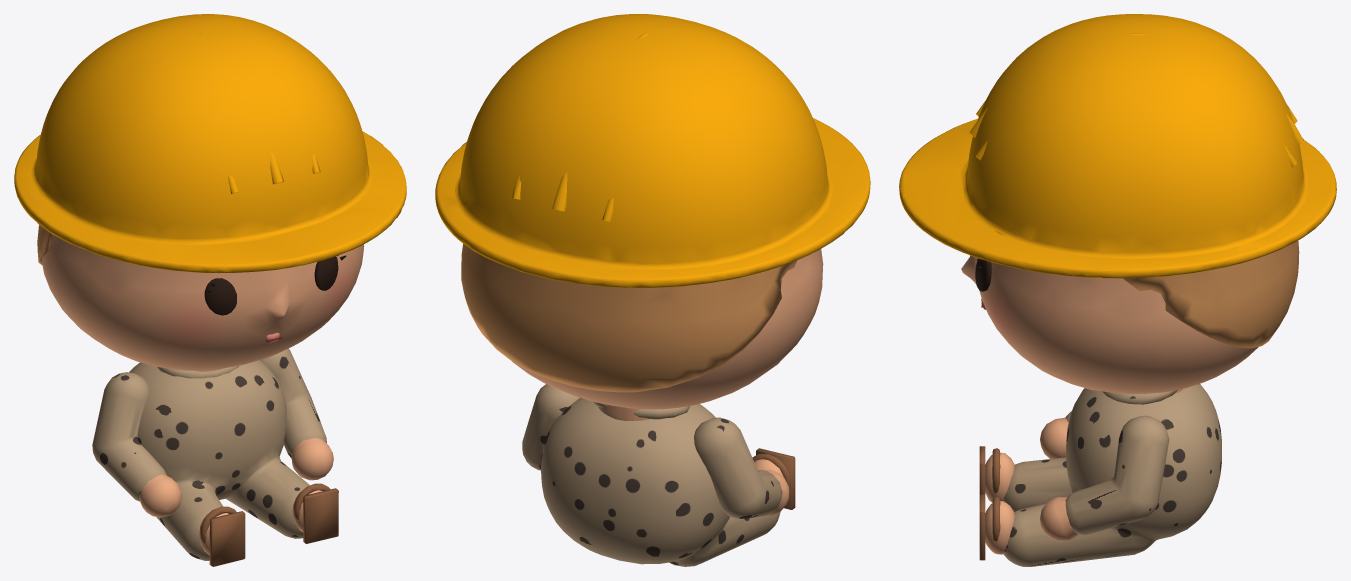
File: hjalte.glb
The picture shows the model from 3 angles, left to right: view 1: azimuth 30°, elevation 25°; view 2: azimuth 150°, elevation 25°; view 3: azimuth 270°, elevation 25°; orthographic projection. The views are drawn at different scales.
Visible parts, largest first — view 1: head, body, arm_r, arm_l, eye_r, eye_l; view 2: head, body, arm_r, arm_l; view 3: head, body, arm_l, arm_r.
Boxes of the visible parts, x1=… form: head: x1=14, y1=14, x2=406, y2=370; body: x1=129, y1=360, x2=338, y2=566; arm_r: x1=92, y1=372, x2=181, y2=517; arm_l: x1=259, y1=348, x2=333, y2=480; eye_r: x1=204, y1=278, x2=236, y2=315; eye_l: x1=314, y1=256, x2=338, y2=290; head: x1=435, y1=14, x2=870, y2=409; body: x1=541, y1=397, x2=795, y2=566; arm_r: x1=694, y1=417, x2=789, y2=518; arm_l: x1=522, y1=384, x2=579, y2=470; head: x1=899, y1=14, x2=1336, y2=393; body: x1=979, y1=384, x2=1221, y2=566; arm_l: x1=1040, y1=415, x2=1169, y2=541; arm_r: x1=1040, y1=411, x2=1071, y2=458.
Bounding box in the file's own units: 1.18 × 1.61 × 1.26.
Materials: 14 (4 with a texture image).
